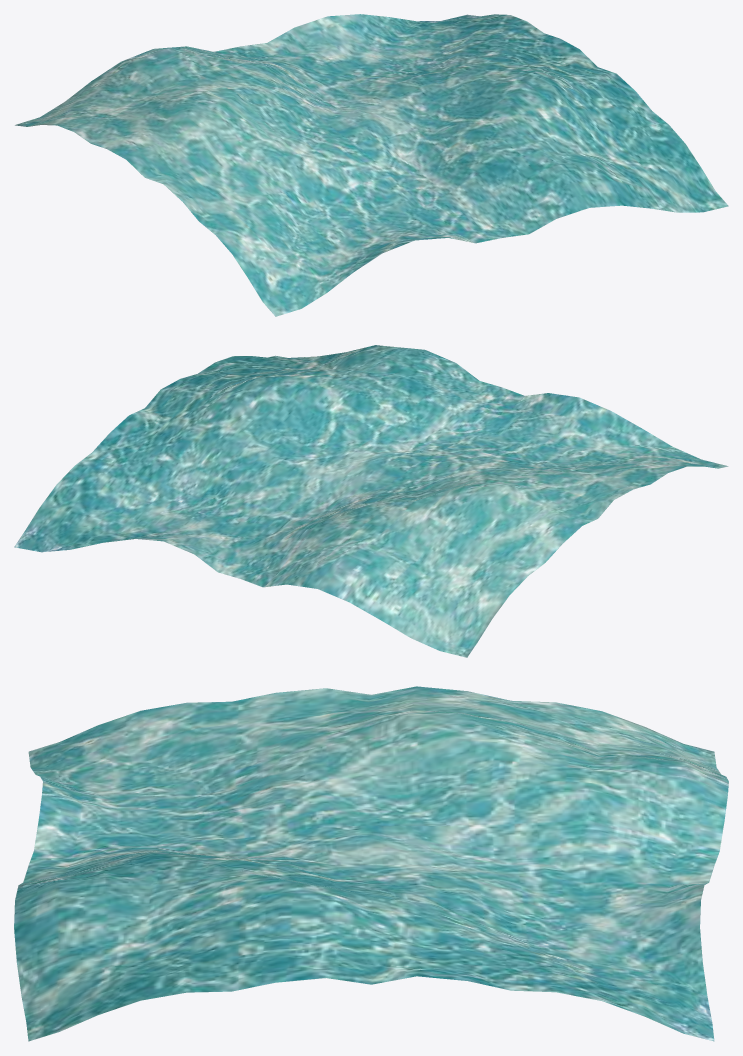
The model's file is water_000080.obj.
3 views of the same model, one above another, from view 1: azimuth 30°, elevation 25°; view 2: azimuth 150°, elevation 25°; view 3: azimuth 270°, elevation 25° (orthographic). The views are drawn at different scales.
Visible parts, largest first — view 1: Plan.003_Plan.001; view 2: Plan.003_Plan.001; view 3: Plan.003_Plan.001.
Part boxes in pixels (x1,y1,x2,y2): Plan.003_Plan.001: (15,14,728,316); Plan.003_Plan.001: (14,345,728,657); Plan.003_Plan.001: (14,686,728,1041).
Bounding box in the file's own units: 60708 × 8597 × 62883.
1 material, 1 textured.
